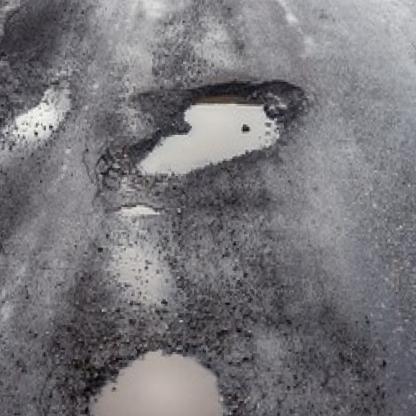pothole: (130, 79, 306, 183), (79, 343, 232, 416)
